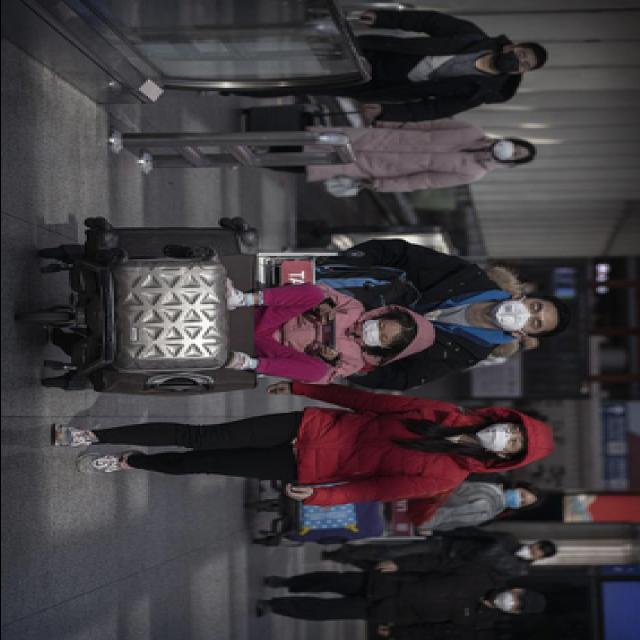mask: (491, 296, 545, 331), (475, 421, 525, 451), (359, 316, 394, 346), (494, 46, 534, 72), (490, 138, 524, 160), (502, 486, 529, 508), (496, 589, 522, 611), (516, 542, 540, 560)
